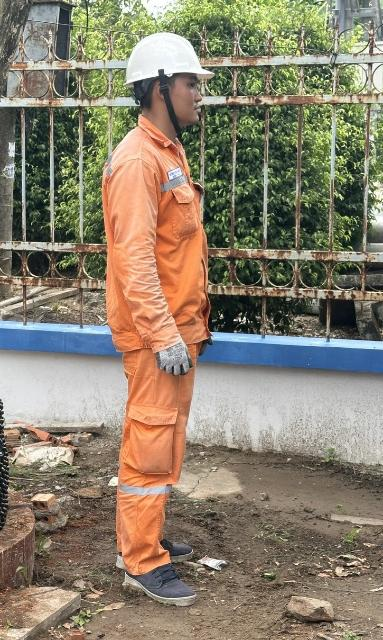gloves: (144, 342, 216, 387)
helmet: (118, 14, 228, 102)
shoes: (125, 554, 220, 612), (112, 542, 203, 567)
